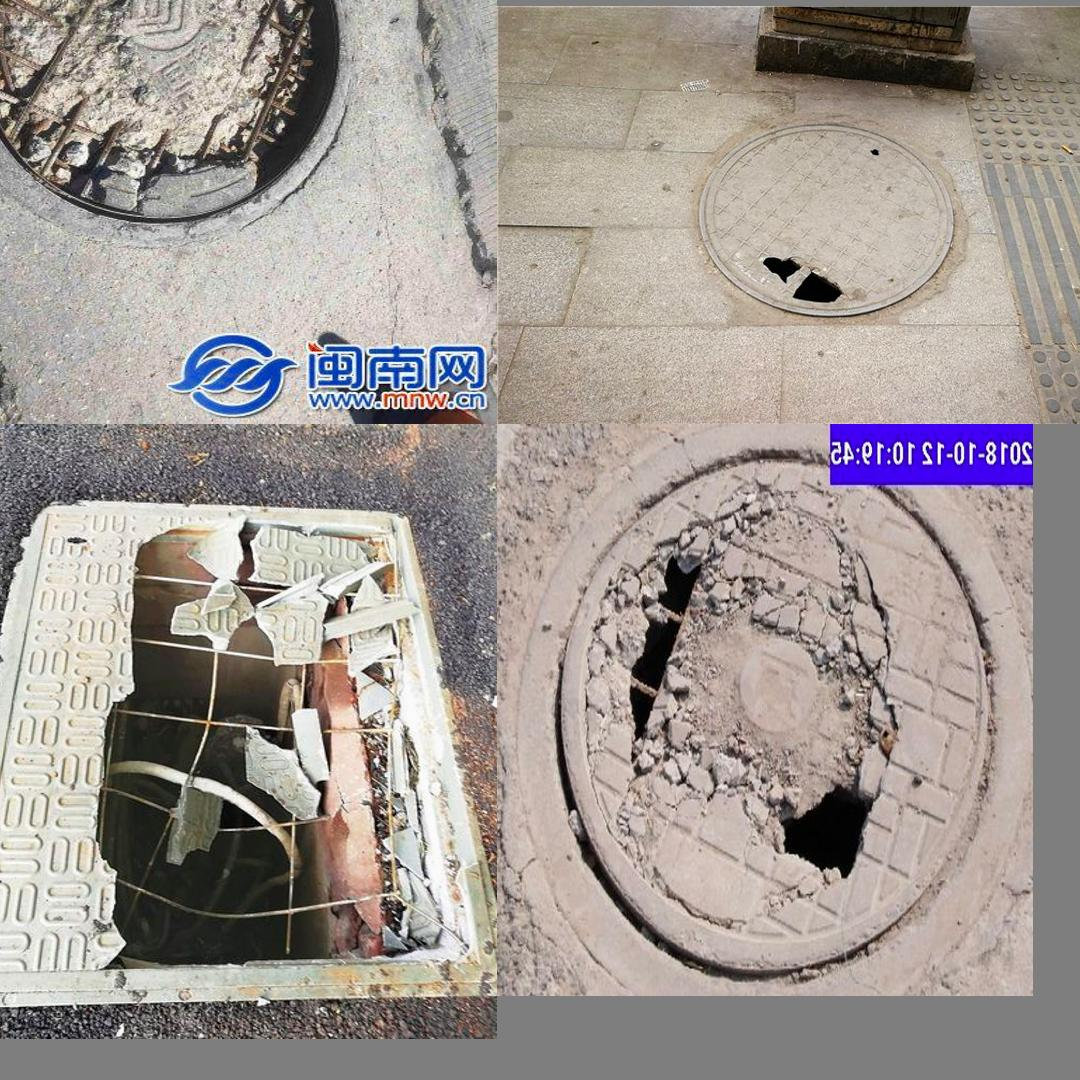broke: (0, 481, 484, 1020), (536, 462, 1006, 965), (0, 0, 376, 237), (697, 122, 953, 319)
